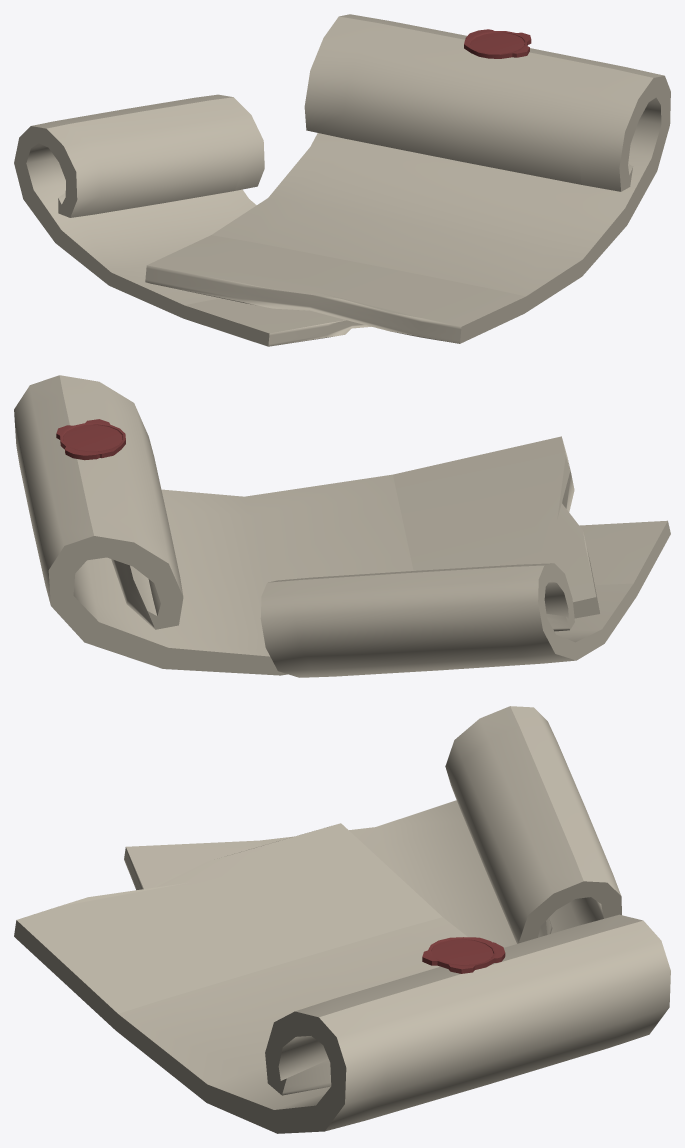
The model's file is documents.glb.
The picture shows the model from 3 angles, top to bottom: view 1: azimuth 30°, elevation 25°; view 2: azimuth 150°, elevation 25°; view 3: azimuth 270°, elevation 25°; orthographic projection. The views are drawn at different scales.
Visible parts, largest first — view 1: Cube 85, Cube 86, stamp; view 2: Cube 85, Cube 86, stamp; view 3: Cube 85, Cube 86, stamp.
Part boxes in pixels (x1,y1,x2,y2): Cube 85: (145,14,670,343); Cube 86: (14,94,371,346); stamp: (464,29,531,58); Cube 85: (14,375,599,675); Cube 86: (260,520,670,677); stamp: (56,419,125,460); Cube 85: (14,823,670,1133); Cube 86: (124,706,621,947); stamp: (422,937,505,973).
Bounding box in the file's own units: 0.6958 × 0.1883 × 0.6065.
